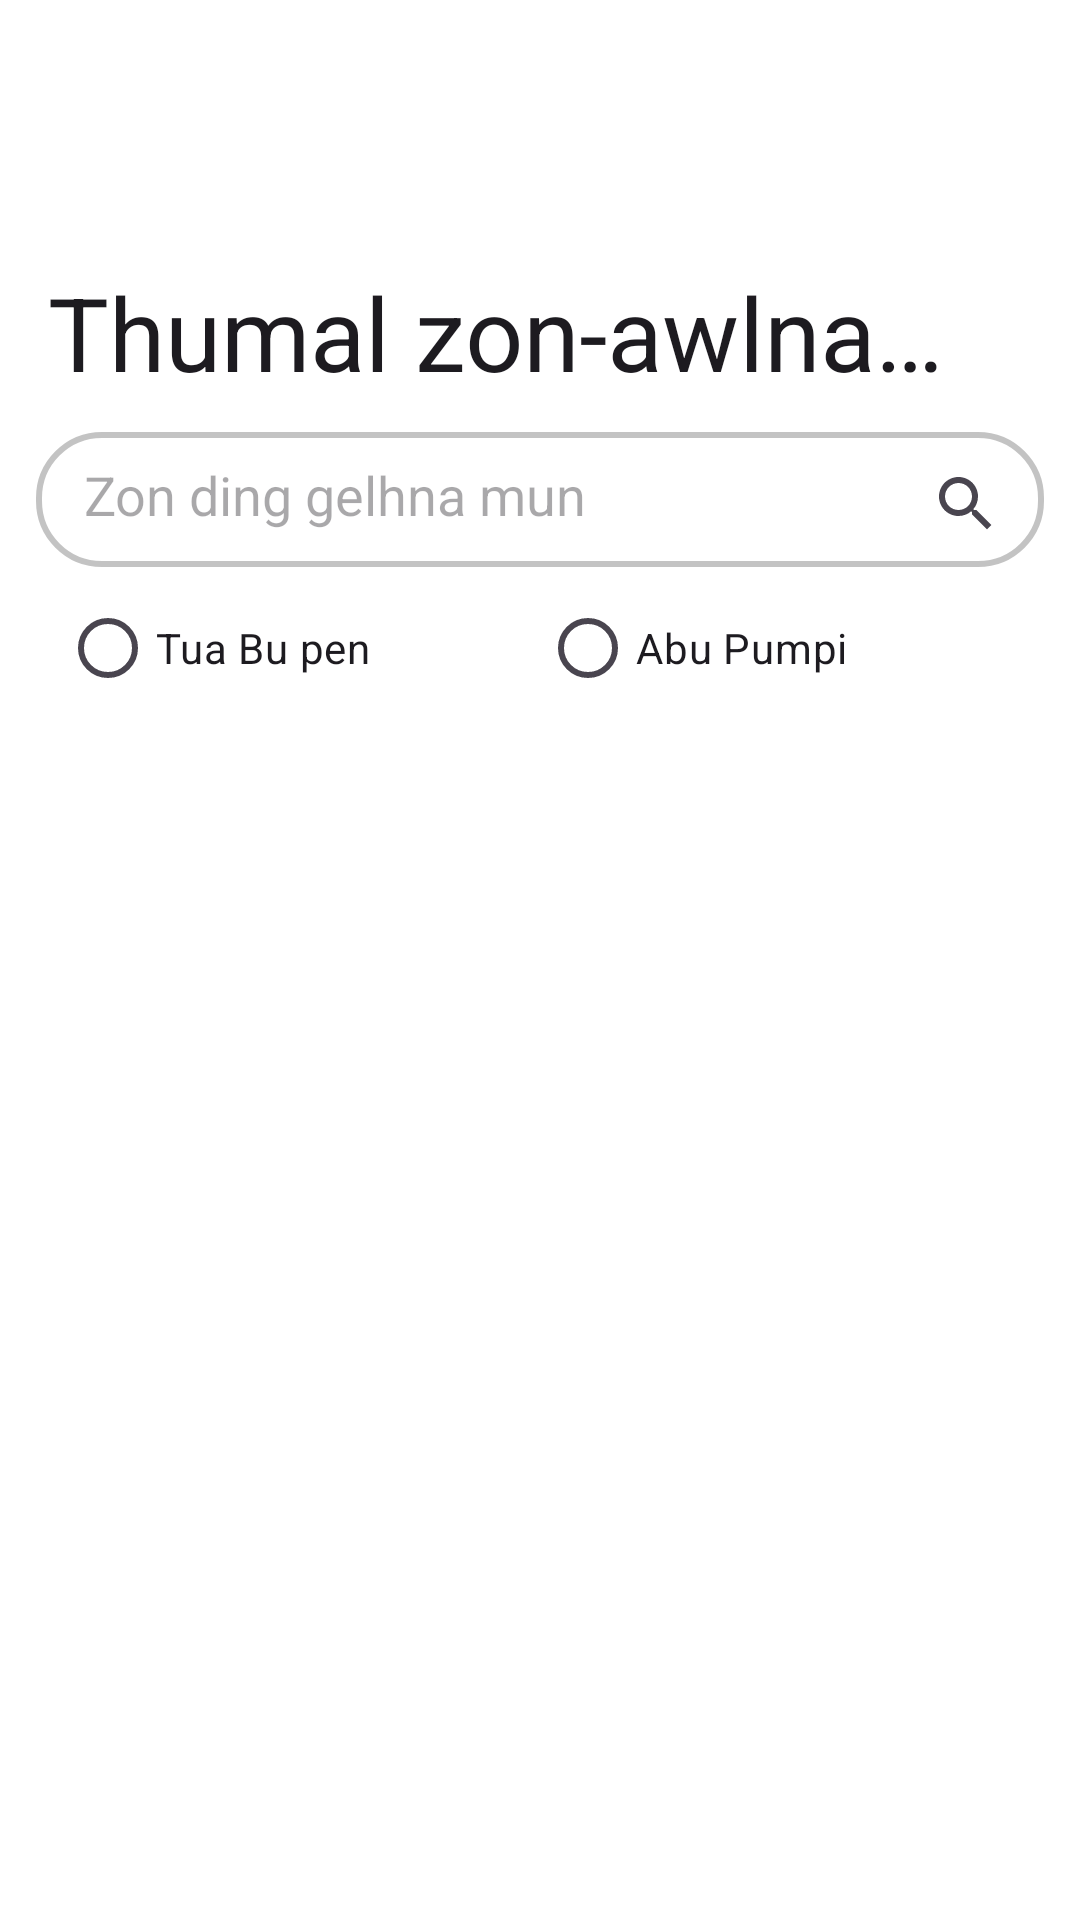

Icon click points for this 1080 × 1920 phone screenshot, format point (x, y):
Search: point (966, 499)
